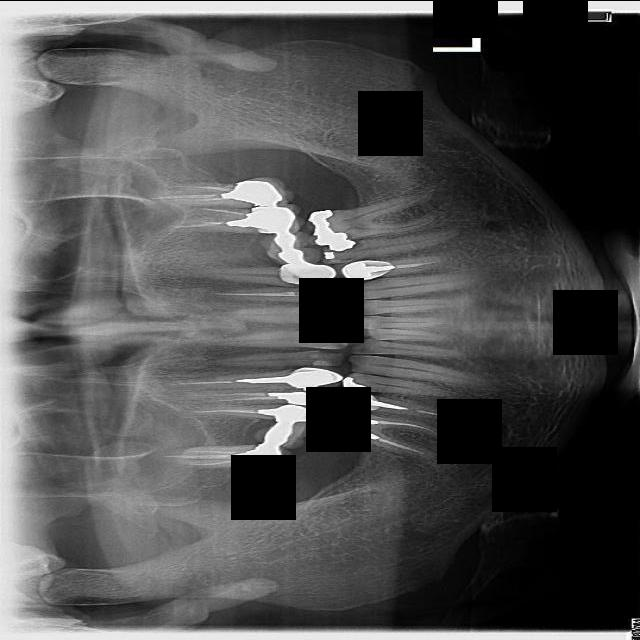71: (232, 370, 313, 385), (347, 394, 409, 410), (349, 262, 396, 275), (265, 390, 311, 401)
74: (377, 416, 442, 436), (375, 434, 424, 457), (166, 451, 237, 460), (216, 290, 295, 298), (168, 182, 231, 192), (150, 193, 215, 201), (211, 394, 282, 401), (394, 259, 444, 268), (169, 219, 223, 227), (413, 408, 456, 417), (200, 207, 247, 215), (196, 392, 269, 397), (186, 458, 238, 465), (190, 448, 241, 455), (174, 196, 224, 201), (193, 409, 259, 412), (176, 379, 237, 382)
NucleOSS Implant: (301, 201, 349, 252), (313, 405, 379, 441), (224, 209, 285, 231), (219, 181, 271, 204), (233, 446, 263, 469), (340, 375, 369, 395), (328, 237, 357, 253), (256, 407, 287, 417), (320, 252, 335, 259)
Sterngold Implant: (341, 212, 369, 233), (315, 349, 339, 359), (336, 254, 358, 262)
Straumann Implant: (298, 285, 343, 295), (308, 358, 333, 366)
Zimmer Implant: (246, 435, 295, 485), (253, 422, 316, 450), (285, 363, 346, 391), (238, 176, 294, 205), (333, 257, 393, 284), (252, 202, 302, 234), (276, 261, 340, 285), (275, 401, 324, 426), (261, 231, 313, 252), (336, 389, 381, 412), (266, 247, 321, 262), (292, 387, 332, 406)
